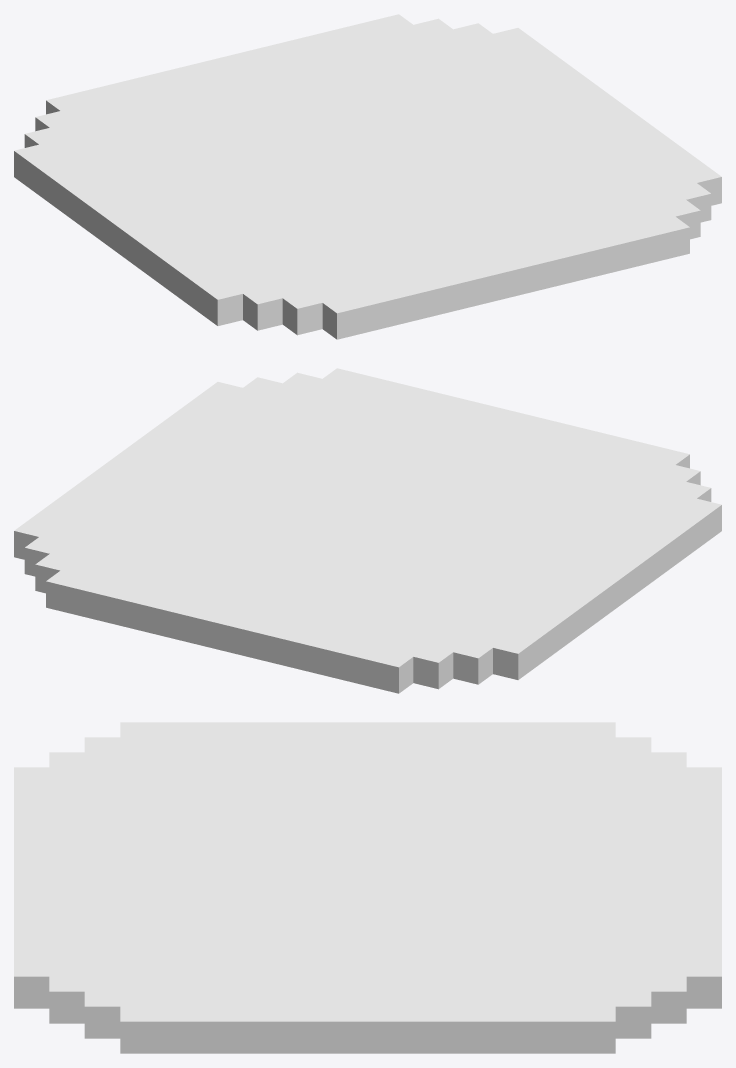
Rendered from ice_sibal.obj.
3 renders of one model, top to bottom at view 1: azimuth 30°, elevation 25°; view 2: azimuth 150°, elevation 25°; view 3: azimuth 270°, elevation 25°, orthographic. The views are drawn at different scales.
Visible parts, largest first — view 1: ice_sibal; view 2: ice_sibal; view 3: ice_sibal.
Boxes of the visible parts, x1,y1,x2,y2 form: ice_sibal: (14, 14, 721, 339); ice_sibal: (14, 368, 721, 693); ice_sibal: (14, 722, 721, 1053).
Bounding box in the file's own units: 20 × 1 × 20.
Materials: 1 (1 with a texture image).
